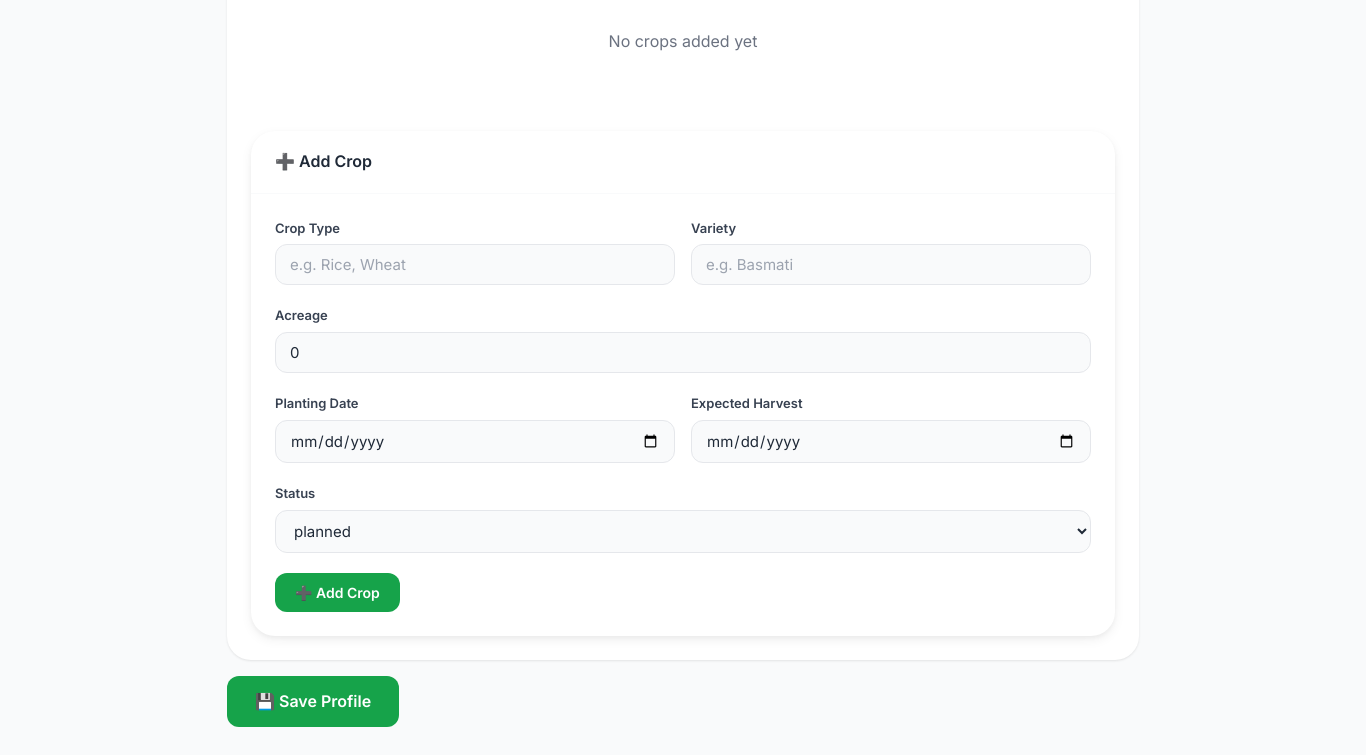
Scenario: shows help after 3+ failed save attempts
The width and height of the screenshot is (1366, 755).
(page scrolled)
# Farm name is empty, so save should fail
Click the button with test id "farm-save" at point(313, 702), box [227,676,399,727]
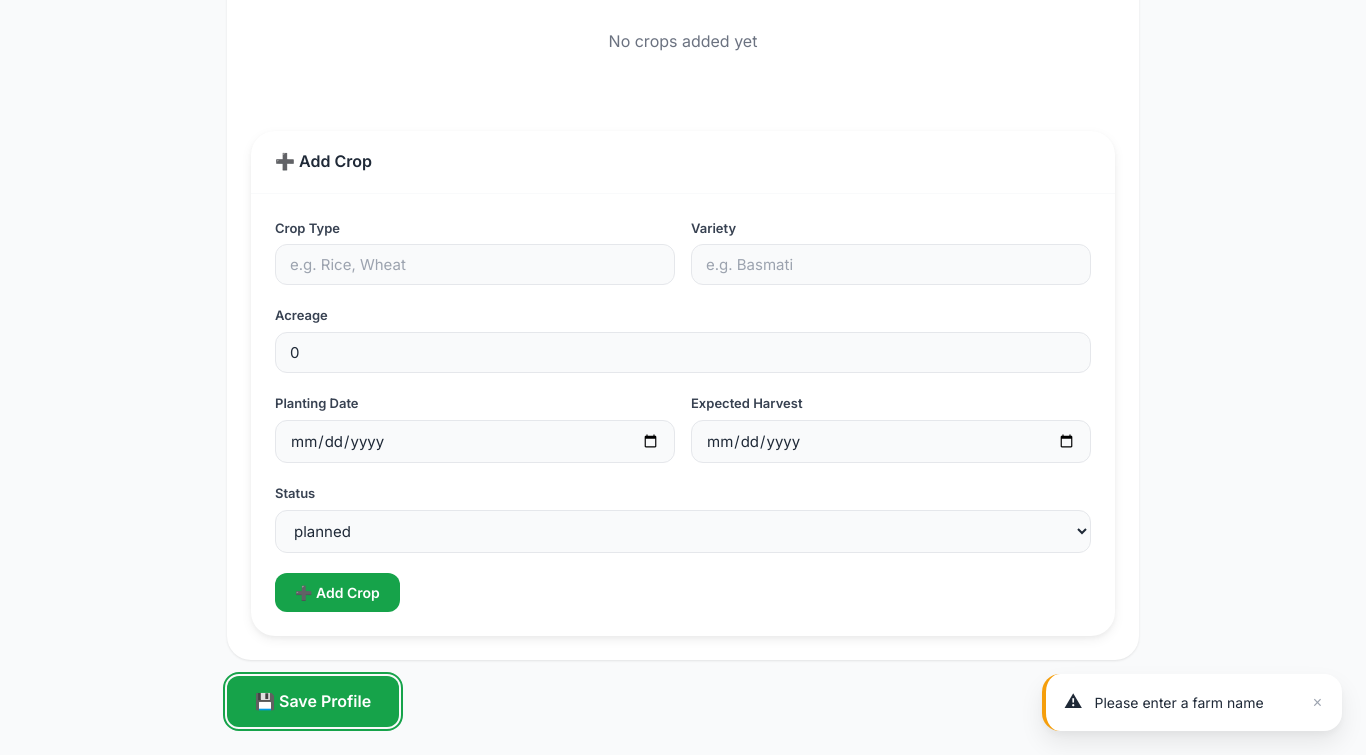
Click the button with test id "farm-save" at point(313, 702), box [227,676,399,727]
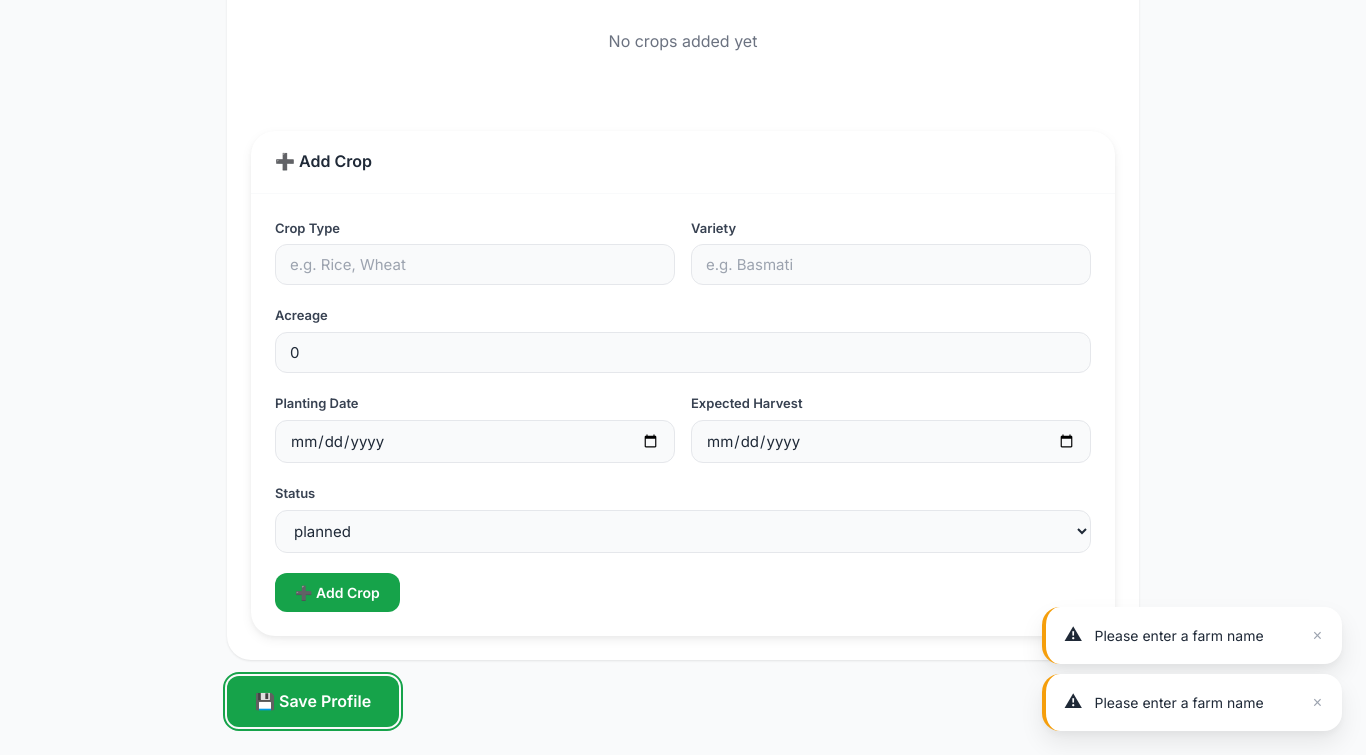
Click the button with test id "farm-save" at point(313, 702), box [227,676,399,727]
(page scrolled)
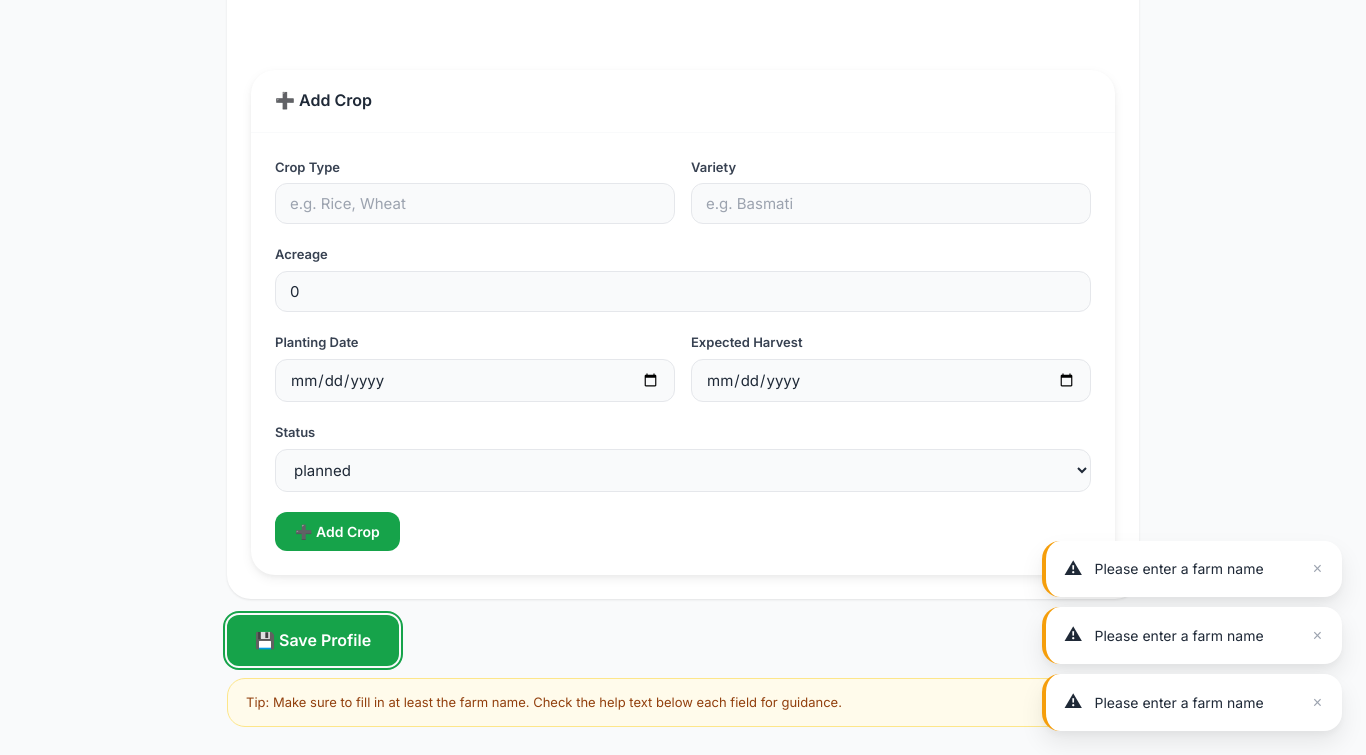
Now the message with test id "farm-help" shows "Make sure to fill in", box [246,694,842,710]
